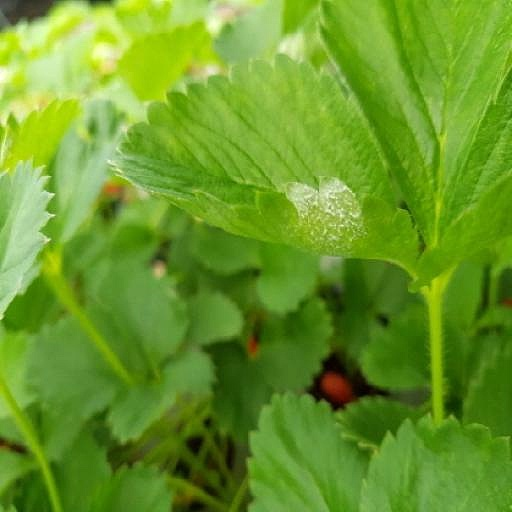Powdery Mildew Leaf: (91, 234, 407, 459)
